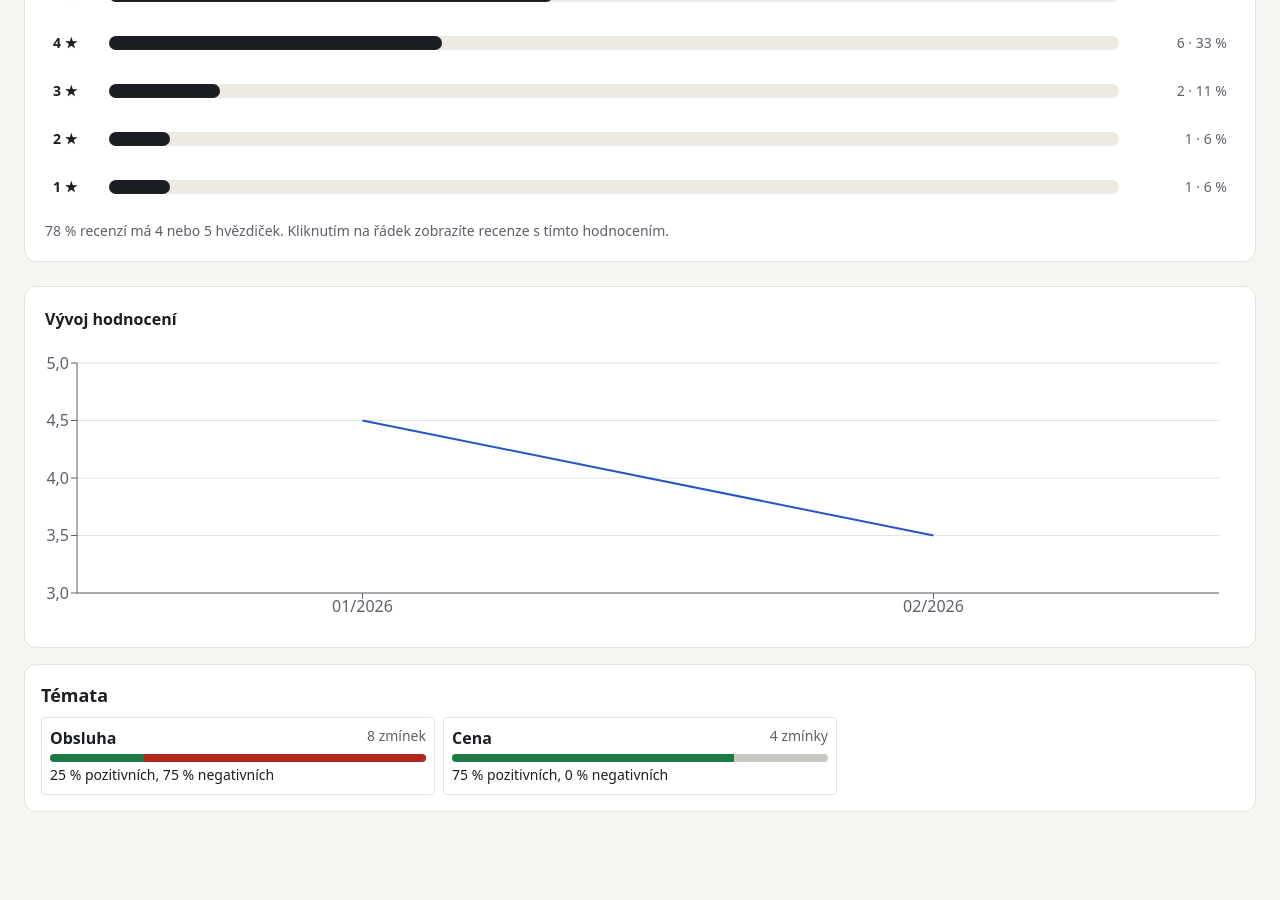
Topics › closes the panel with the button and with Escape
(page scrolled)
Click the button "Obsluha 8 zmínek 25 % pozitivních, 75 % negativních" at [238, 756], box left=41, top=717, right=435, bottom=795
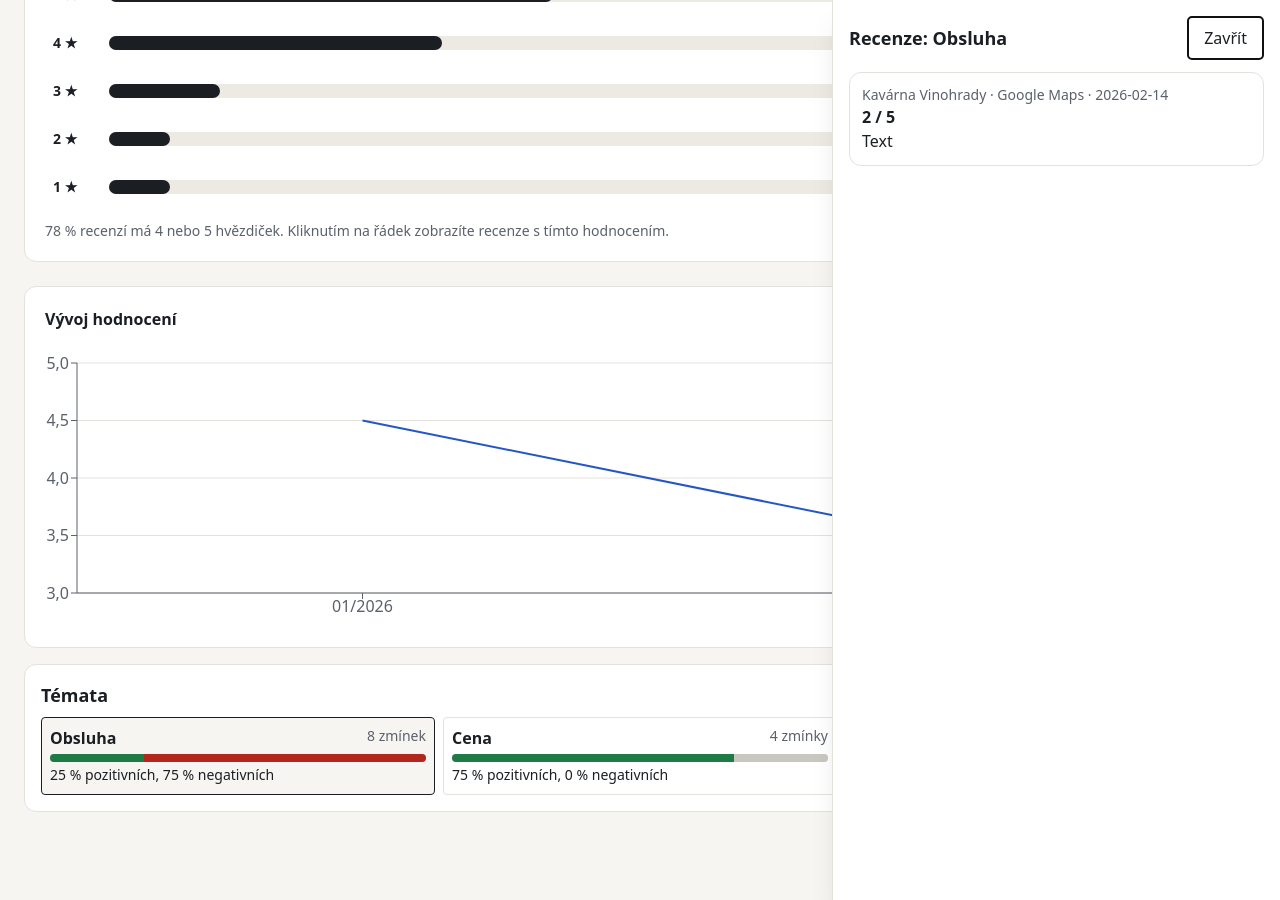
Expected: the dialog is shown, left=832, top=0, right=1279, bottom=899
Click the button "Zavřít" at [1226, 38], box left=1187, top=16, right=1264, bottom=60
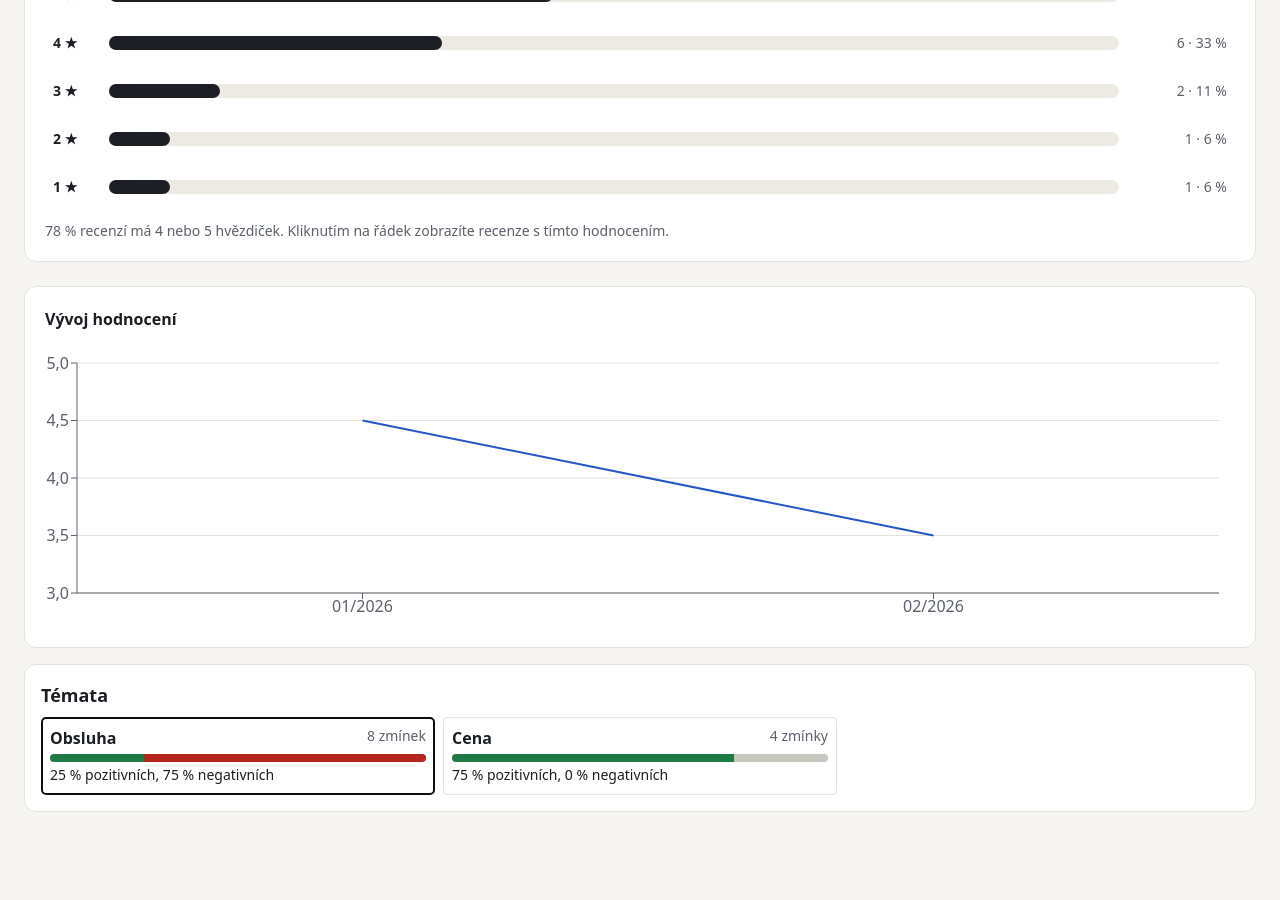
Expected: the dialog is gone
Click the button "Obsluha 8 zmínek 25 % pozitivních, 75 % negativních" at [238, 756], box left=41, top=717, right=435, bottom=795
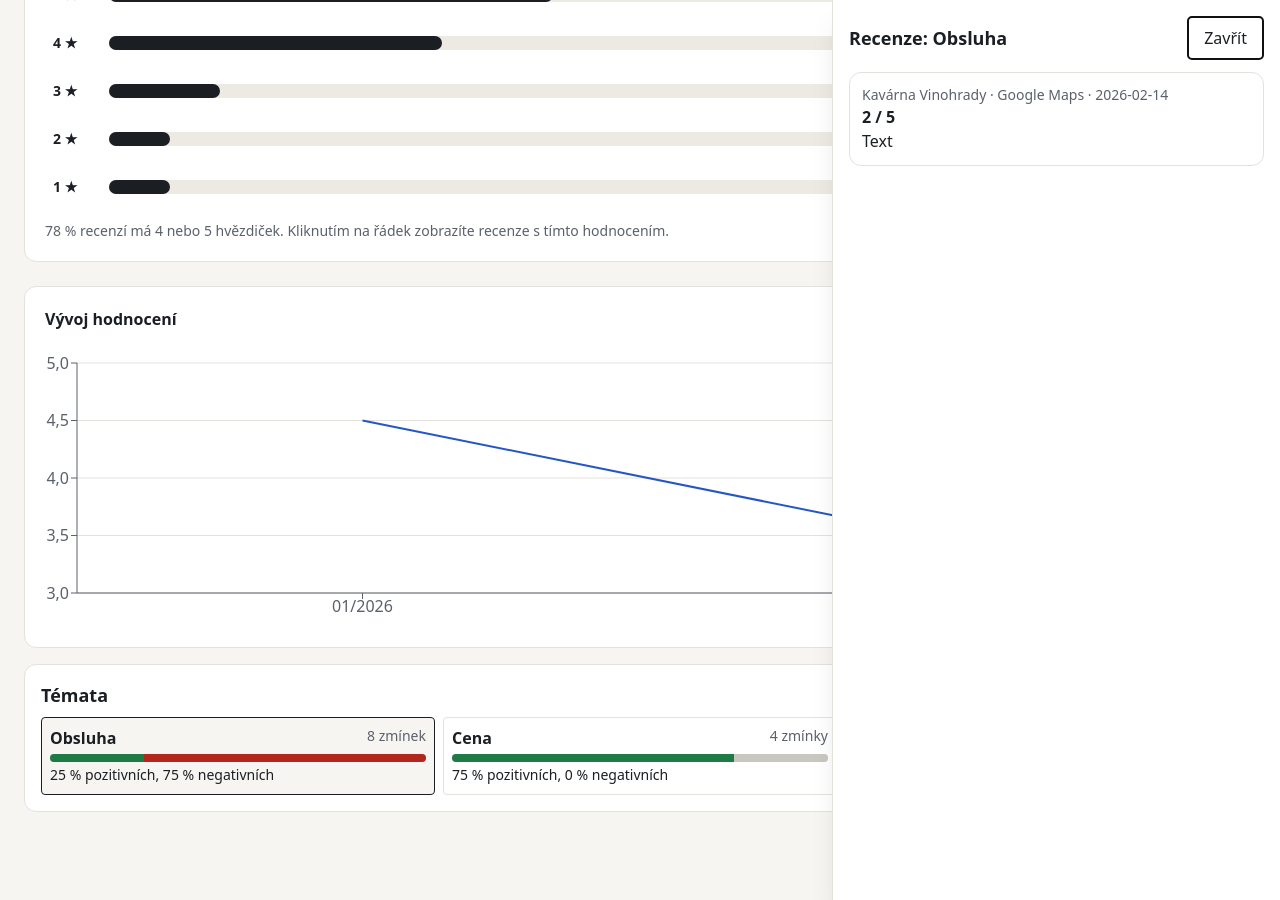
Expected: the dialog is shown, left=832, top=0, right=1279, bottom=899
Press Escape
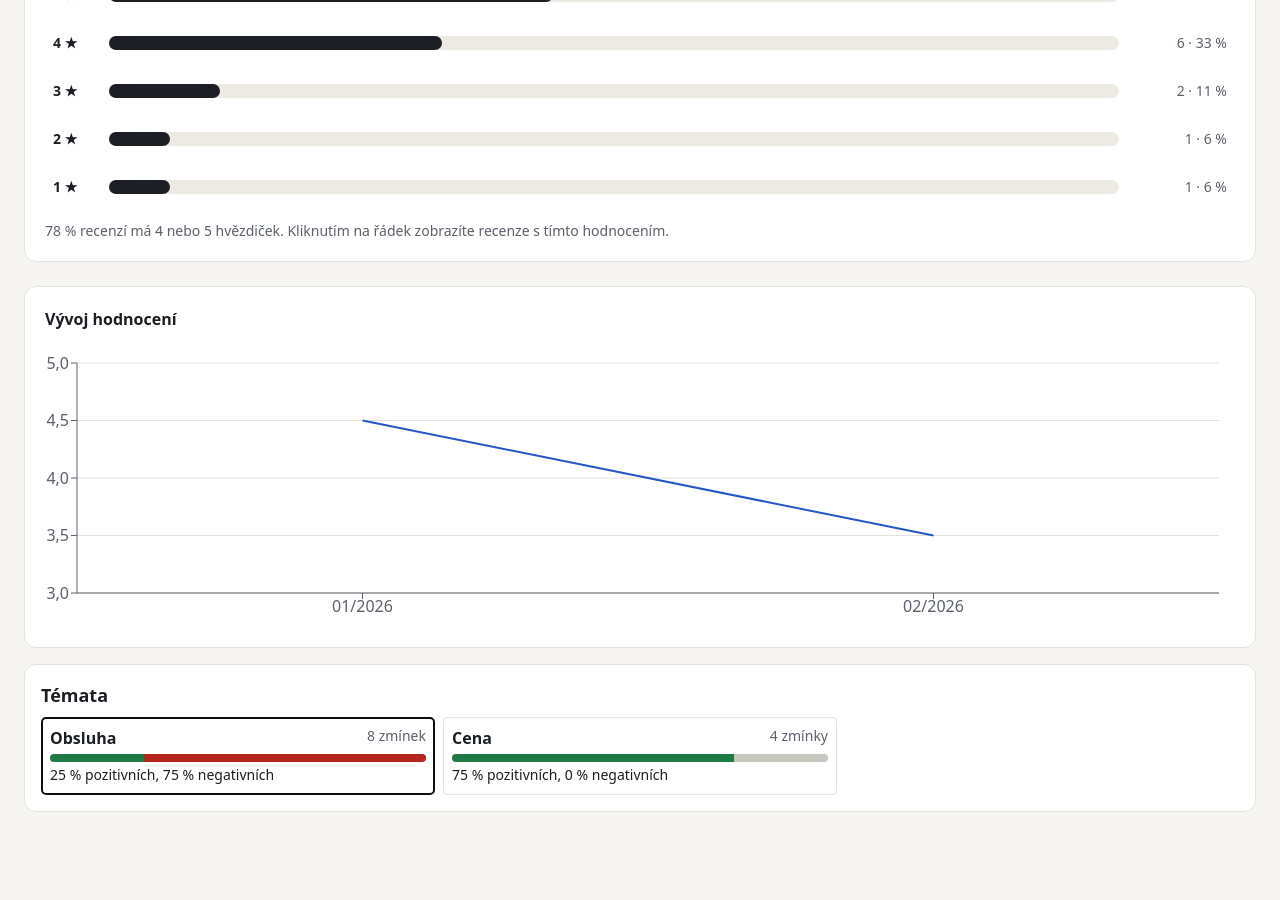
Expected: the dialog is gone
